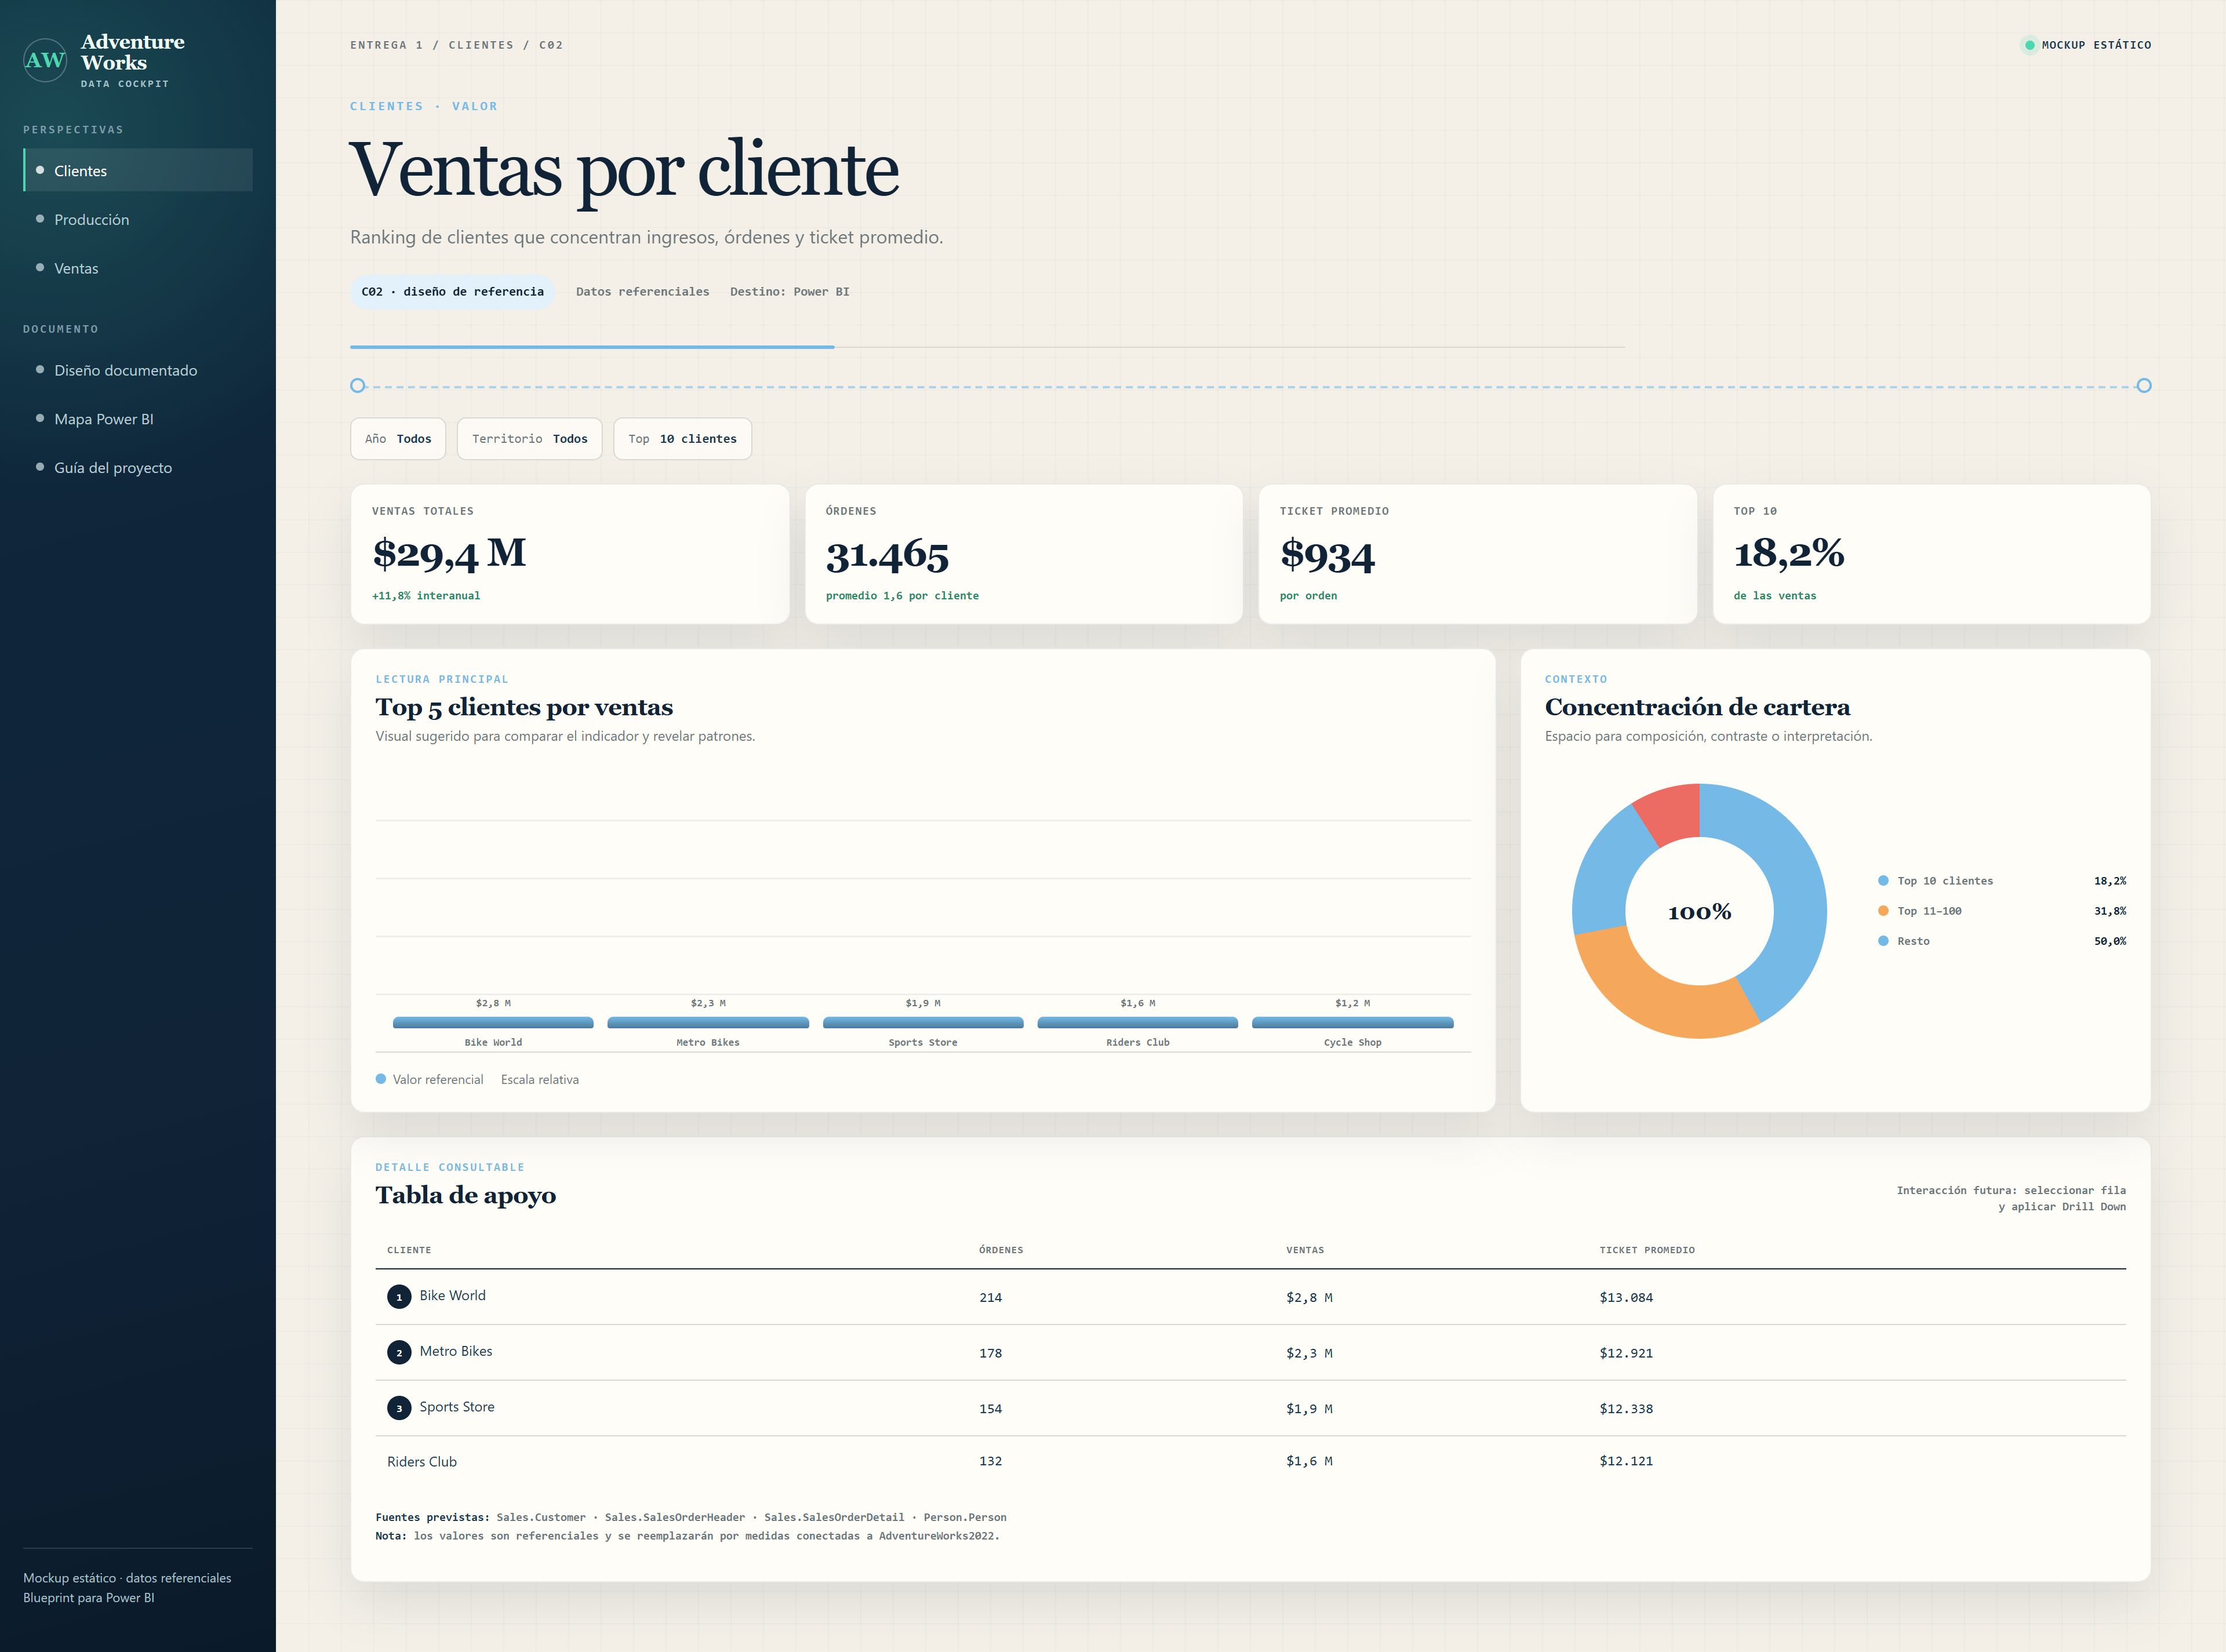

This screenshot's page, from the dashboard's own definition file:
{"tool":"powerbi","page":{"name":"C02 · Ventas por cliente","canvas":[1920,1080],"ordinal":1},"visuals":[{"type":"clusteredBarChart","title":"Top 10 clientes por ventas","fields":{"Category":["rpt C02_VentasPorCliente.ClienteEtiqueta"],"Y":["Sum(rpt C02_VentasPorCliente.Ventas)"]},"box":[11.5,241.6,652.5,596.3],"z":0},{"type":"cardVisual","title":"Ventas totales","fields":{"Data":["Sum(rpt C02_VentasPorCliente.Ventas)"]},"box":[11.5,31.2,326.2,179.5],"z":1000},{"type":"cardVisual","title":"Órdenes","fields":{"Data":["Sum(rpt C02_VentasPorCliente.Ordenes)"]},"box":[364.9,31.2,270,179.5],"z":2000},{"type":"cardVisual","title":"Ticket promedio global","fields":{"Data":["rpt C02_VentasPorCliente.Ticket promedio global"]},"box":[664.1,31.2,270,180],"z":3000},{"type":"slicer","fields":{"Values":["rpt C02_VentasPorCliente.TerritoryName"]},"box":[1650.4,368.2,254.8,392.9],"z":4000},{"type":"slicer","fields":{"Values":["rpt C02_VentasPorCliente.CustomerType"]},"box":[1660.3,210.4,236.7,129.9],"z":5000},{"type":"tableEx","fields":{"Values":["rpt C02_VentasPorCliente.ClienteEtiqueta","rpt C02_VentasPorCliente.CustomerType","rpt C02_VentasPorCliente.TerritoryName","Sum(rpt C02_VentasPorCliente.Ordenes)","Sum(rpt C02_VentasPorCliente.Ventas)","rpt C02_VentasPorCliente.Ticket promedio global"]},"box":[682.2,241.6,945.2,596.7],"z":6000},{"type":"cardVisual","title":"% de ventas del Top 10","fields":{"Data":["rpt C02_VentasPorCliente.% ventas Top 10"]},"box":[960,31.2,221.9,179.2],"z":7000}]}

Visuals, with their boxes on the page's 1920x1080 design canvas (x1, y1, x2, y2). These are canvas units, not pixel positions in the 2226x1652 screenshot, which may show the page scaled, cropped or inside an application window:
"Top 10 clientes por ventas" clusteredBarChart: 12/242/664/838
"Ventas totales" cardVisual: 12/31/338/211
"Órdenes" cardVisual: 365/31/635/211
"Ticket promedio global" cardVisual: 664/31/934/211
slicer - rpt C02_VentasPorCliente.TerritoryName: 1650/368/1905/761
slicer - rpt C02_VentasPorCliente.CustomerType: 1660/210/1897/340
tableEx - rpt C02_VentasPorCliente.ClienteEtiqueta x rpt C02_VentasPorCliente.CustomerType: 682/242/1627/838
"% de ventas del Top 10" cardVisual: 960/31/1182/210
